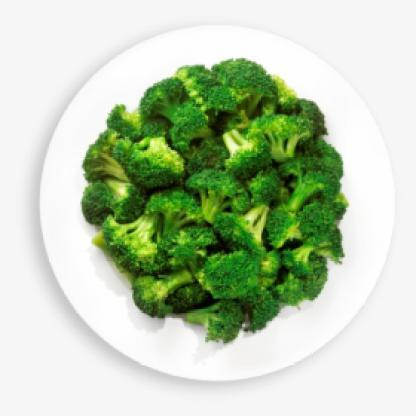broccoli: (71, 52, 351, 343)
